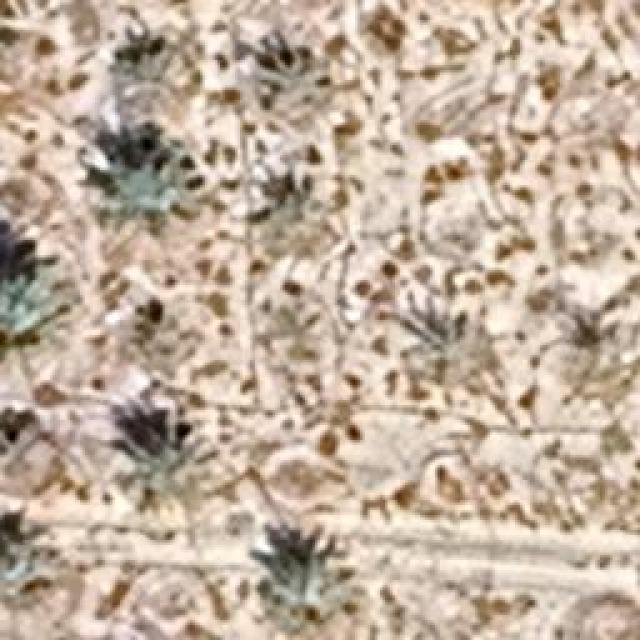PalmTree: (76, 77, 599, 358), (28, 100, 76, 442), (96, 136, 209, 254), (394, 298, 508, 398), (110, 432, 222, 510), (250, 158, 330, 262), (0, 240, 65, 350), (0, 508, 68, 612), (244, 530, 328, 602), (110, 55, 200, 120), (252, 44, 318, 112)
